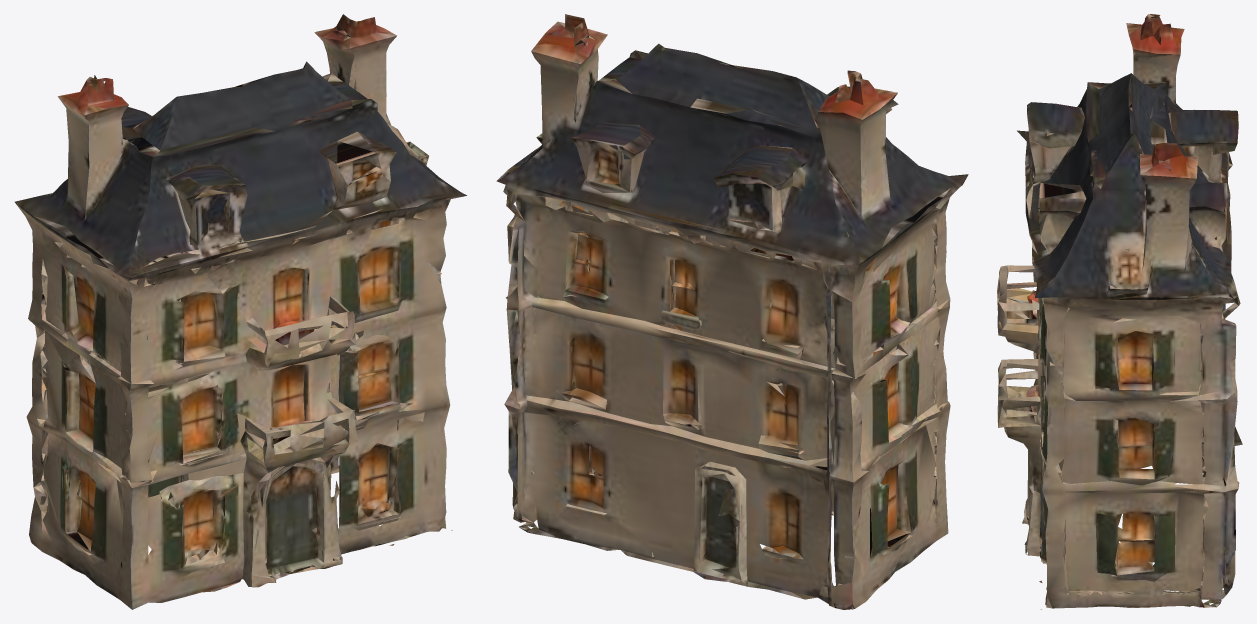
File: villa_3.glb
3 renders of one model, left to right at view 1: azimuth 30°, elevation 25°; view 2: azimuth 150°, elevation 25°; view 3: azimuth 270°, elevation 25°, orthographic. The views are drawn at different scales.
Visible parts, largest first — view 1: classic__villa_3__neural_lod; view 2: classic__villa_3__neural_lod; view 3: classic__villa_3__neural_lod.
Boxes of the visible parts, <box> form: classic__villa_3__neural_lod: <box>14,14,466,609</box>; classic__villa_3__neural_lod: <box>496,14,968,609</box>; classic__villa_3__neural_lod: <box>997,14,1242,609</box>.
Bounding box in the file's own units: 0.681 × 0.887 × 0.4305.
Materials: 1 (1 with a texture image).
